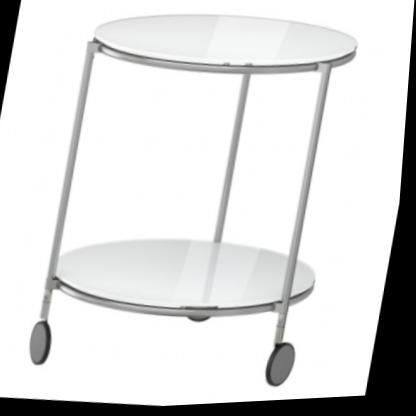Table: (24, 0, 369, 409)
